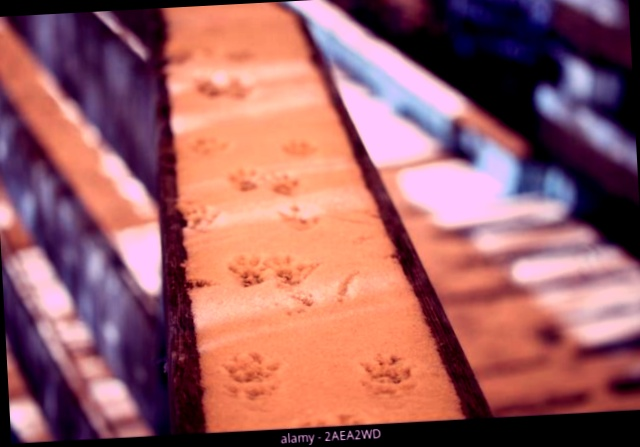ecureuil: (206, 341, 296, 404), (351, 338, 425, 407), (223, 238, 317, 290), (227, 161, 302, 202)
